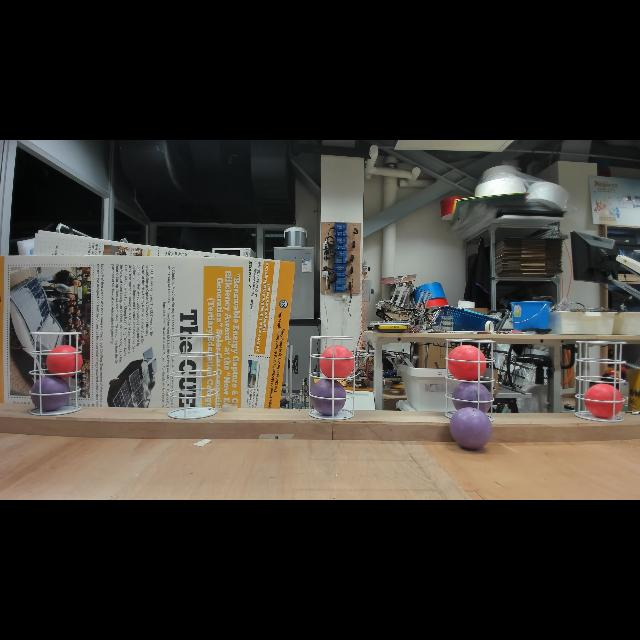P: (449, 407, 493, 451), (30, 374, 70, 412), (452, 381, 492, 417), (310, 378, 346, 416)
R: (447, 344, 487, 382), (584, 383, 624, 419), (46, 345, 84, 379), (319, 346, 355, 380)
S: (28, 331, 82, 417), (443, 338, 495, 424), (167, 334, 219, 420), (573, 341, 627, 423), (308, 336, 357, 420)
